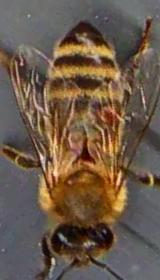varroa_mite: (88, 99, 134, 134)
